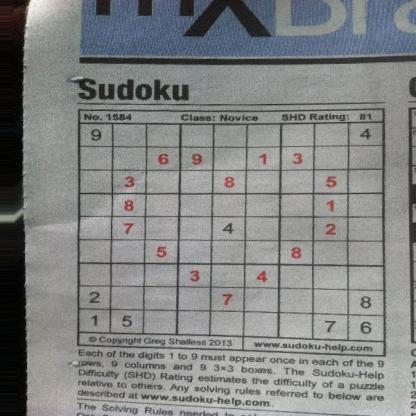sudoku: (75, 119, 389, 343)
